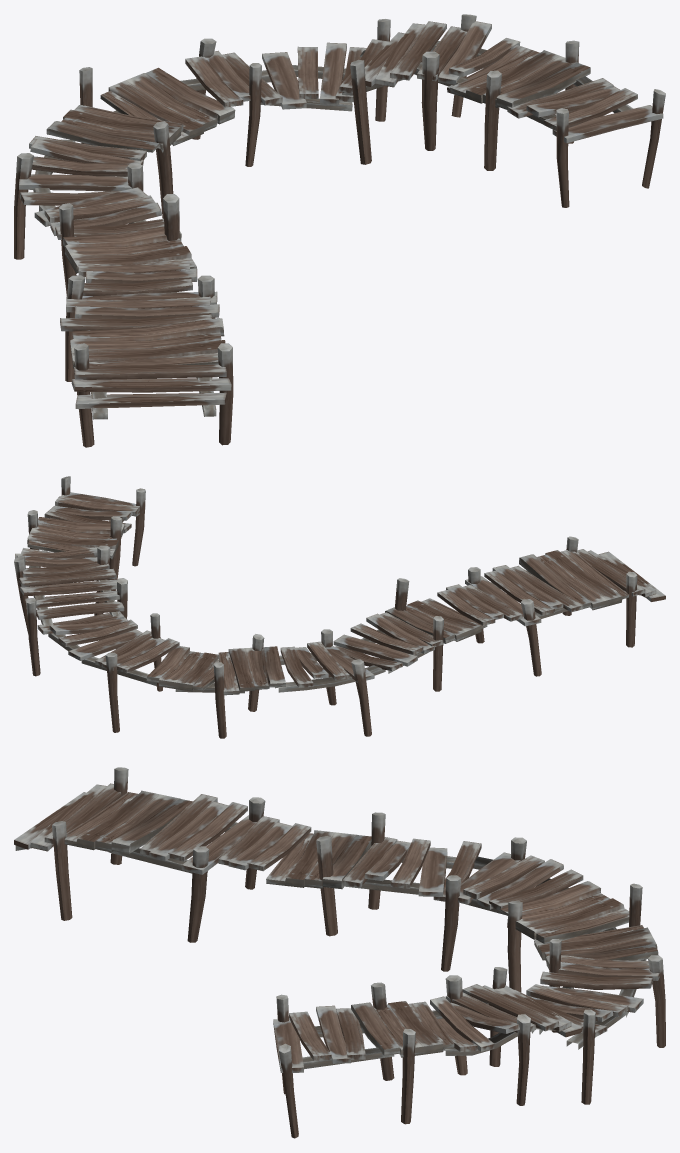
Rendered from snow_a_n05.fbx.
3 renders of one model, top to bottom at view 1: azimuth 30°, elevation 25°; view 2: azimuth 150°, elevation 25°; view 3: azimuth 270°, elevation 25°, orthographic. The views are drawn at different scales.
Parts seen in each view (by area): view 1: snow_a_n05; view 2: snow_a_n05; view 3: snow_a_n05.
Part boxes in pixels (<box>): snow_a_n05: <box>14,14,665,447</box>; snow_a_n05: <box>14,476,665,738</box>; snow_a_n05: <box>14,767,665,1138</box>.
Bounding box in the file's own units: 2271 × 447 × 1944.
